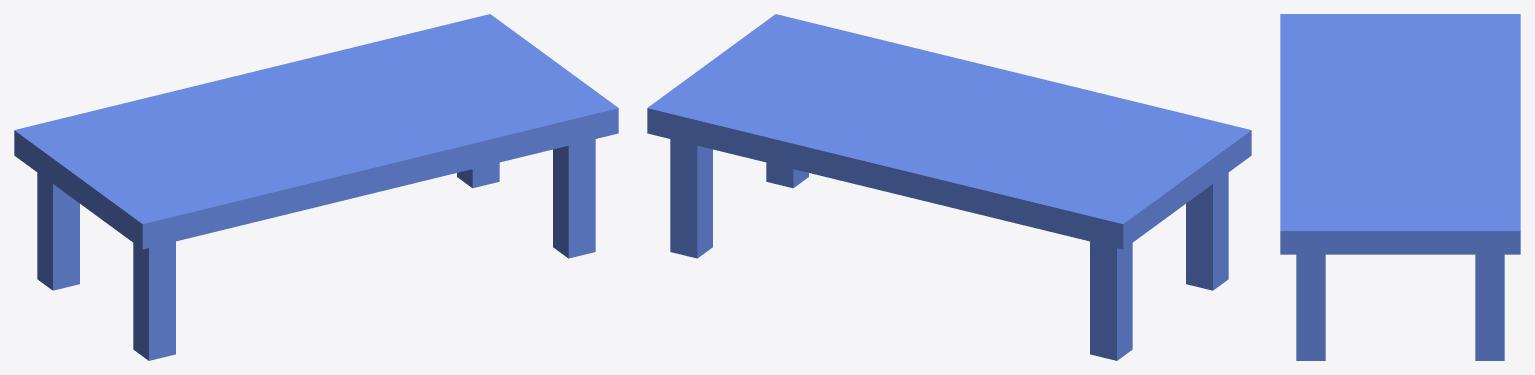
File: table.fbx
The picture shows the model from 3 angles, left to right: view 1: azimuth 30°, elevation 25°; view 2: azimuth 150°, elevation 25°; view 3: azimuth 270°, elevation 25°; orthographic projection. The views are drawn at different scales.
Parts seen in each view (by area): view 1: Cube; view 2: Cube; view 3: Cube.
Part boxes in pixels (box(x1,y1,x2,y2)): Cube: box(14, 14, 618, 360); Cube: box(647, 14, 1251, 360); Cube: box(1280, 14, 1520, 360).
Size of the model in its own units: 860 by 253 by 402.
